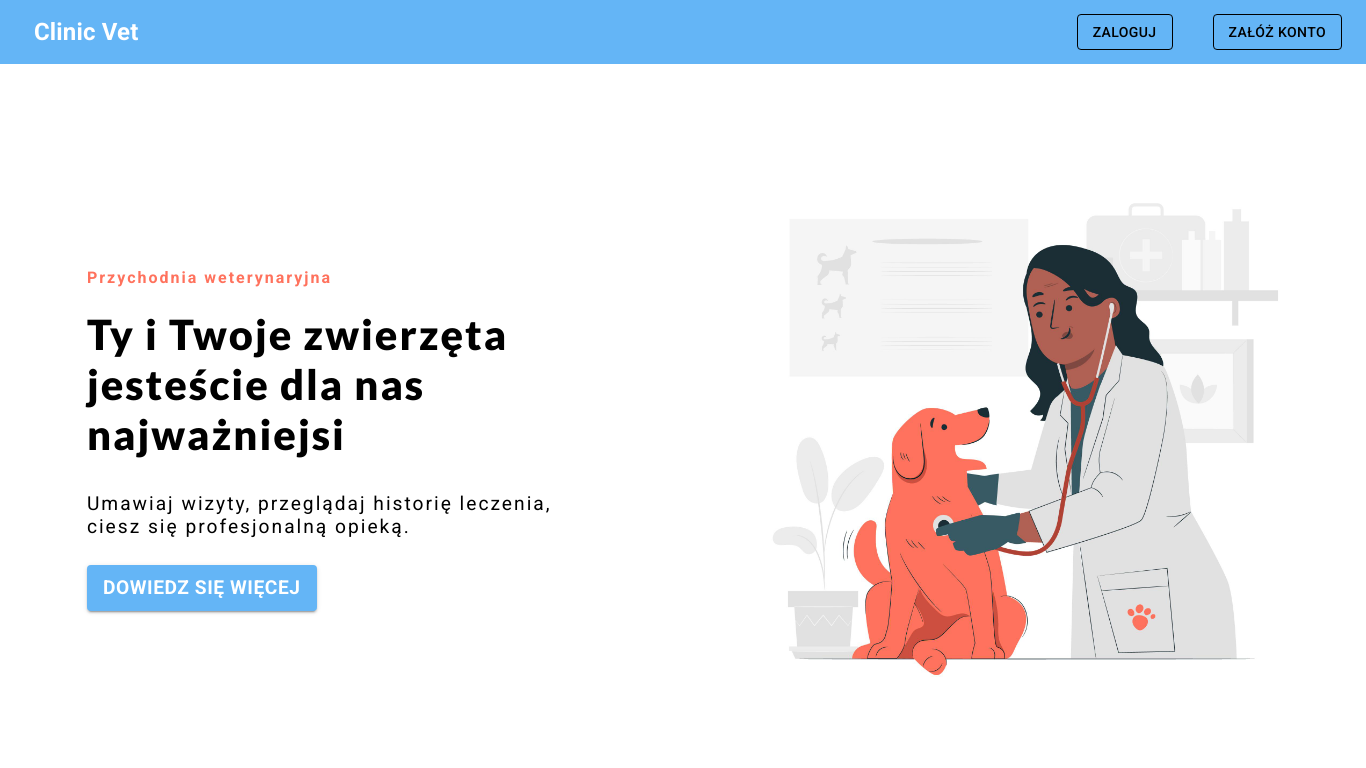
Test: Test login logout flow › should login with fail
Click the link "Zaloguj" at x=1125, y=33, box [1077,14,1173,51]
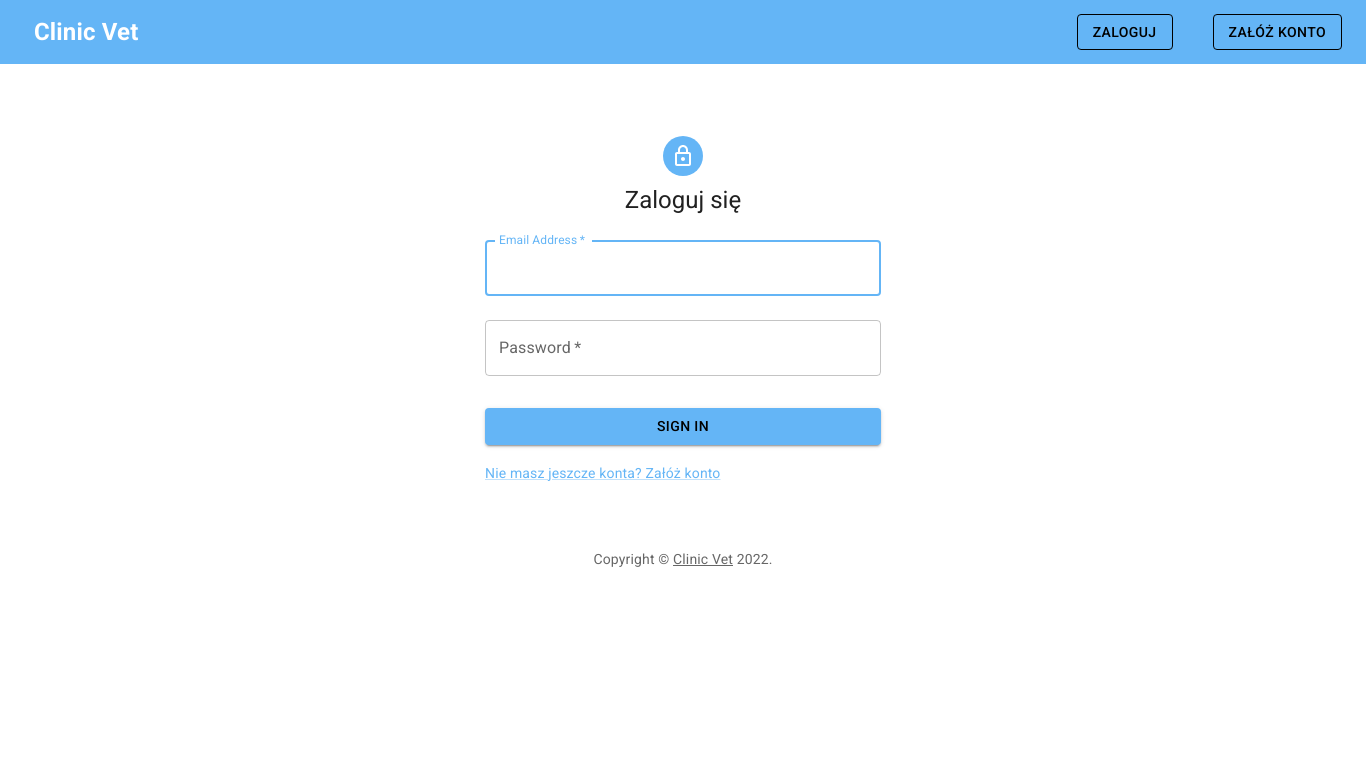
Type "w@m.pl" into the field named "email" at x=683, y=268, box [485,240,881,296]
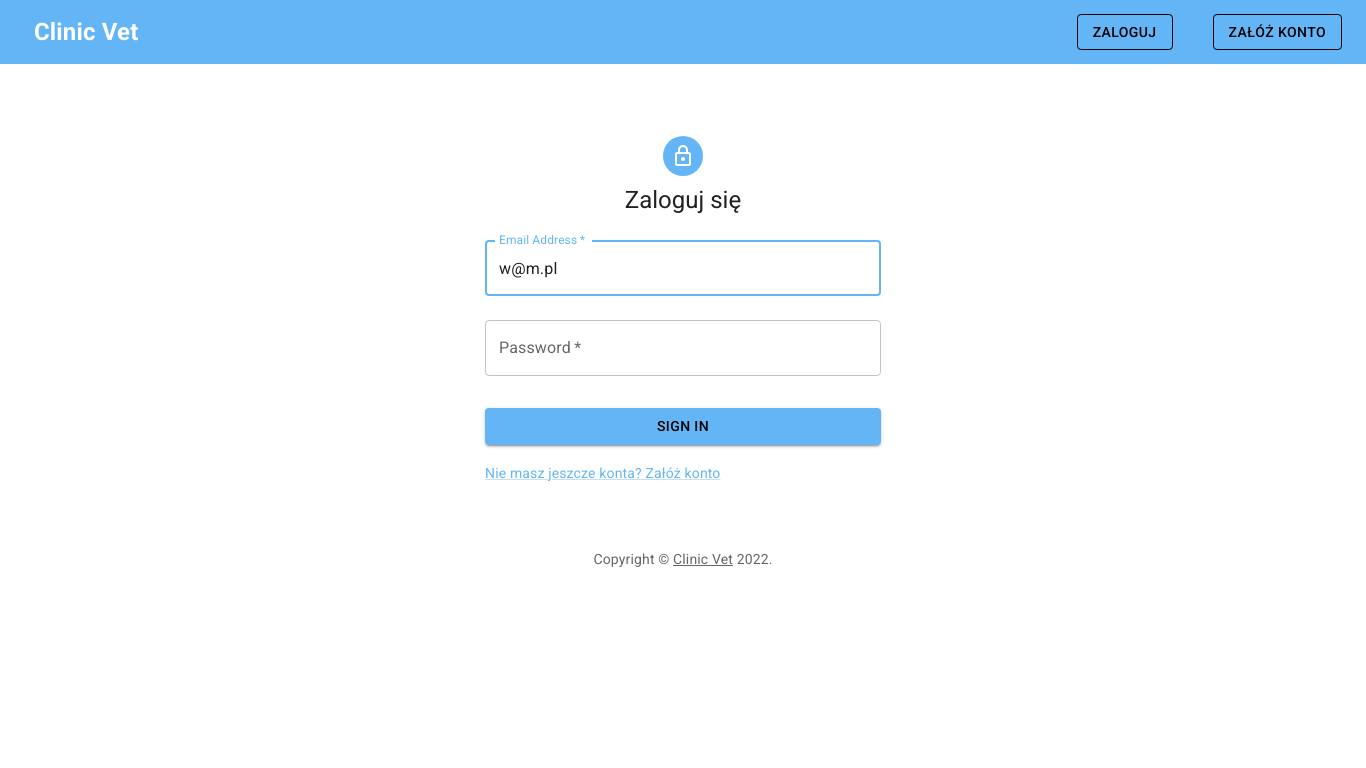
Type "1234" into the password field named "password" at x=683, y=348, box [485,320,881,376]
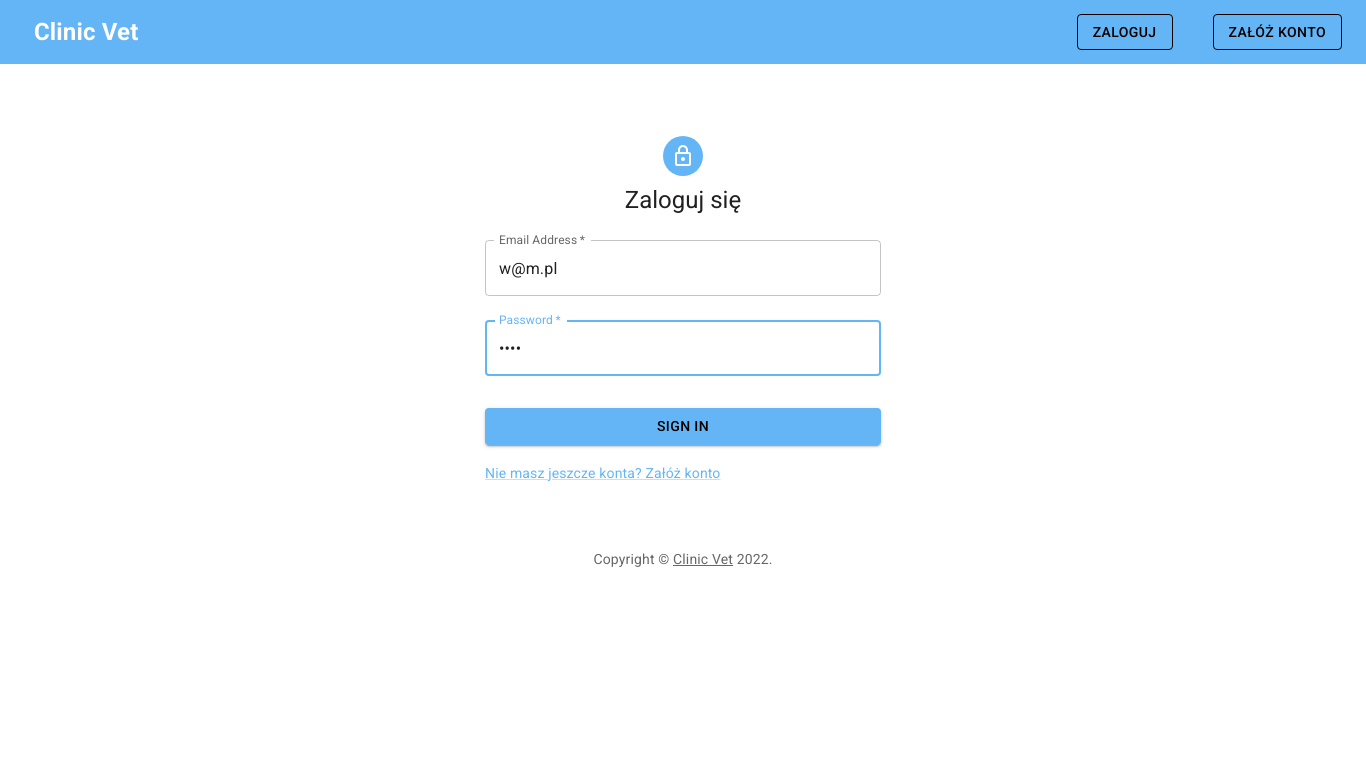
Click the button "Sign In" at x=683, y=427, box [485,408,881,445]
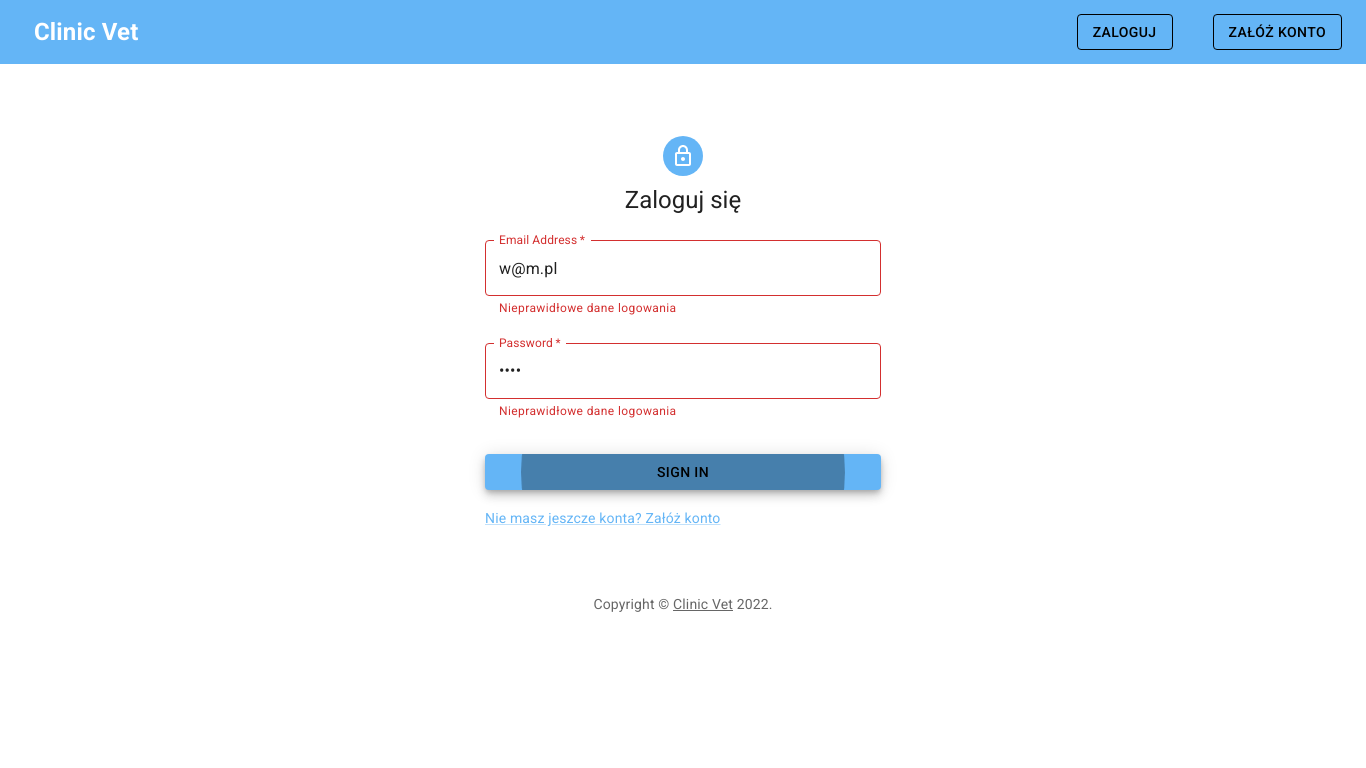
Check: the text with id "email-helper-text" reads "Nieprawidłowe dane logowania", box [499,301,677,315]
